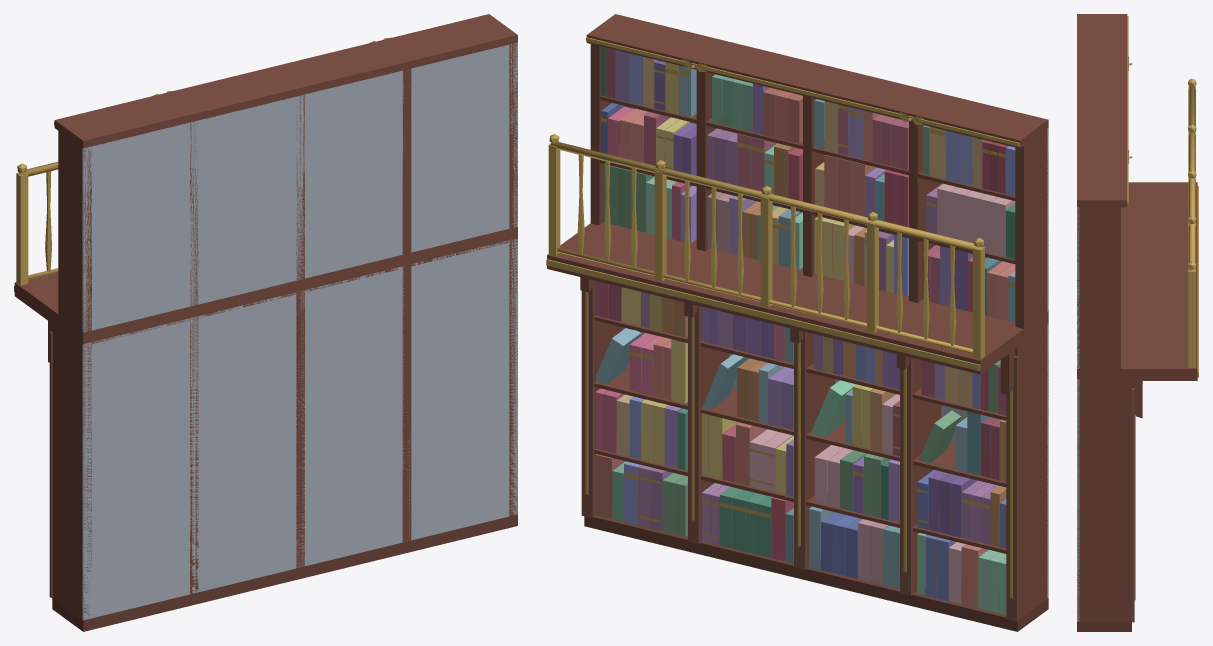
Rendered from library_mezzanine.glb.
The picture shows the model from 3 angles, left to right: view 1: azimuth 30°, elevation 25°; view 2: azimuth 150°, elevation 25°; view 3: azimuth 270°, elevation 25°; orthographic projection. The views are drawn at different scales.
Parts seen in each view (by area): view 1: library_mezzanine; view 2: library_mezzanine; view 3: library_mezzanine.
Part boxes in pixels (x1=…): library_mezzanine: x1=14, y1=14, x2=517, y2=631; library_mezzanine: x1=546, y1=14, x2=1048, y2=631; library_mezzanine: x1=1077, y1=14, x2=1198, y2=631.
Size of what is drawn, in the model's own units: 4 by 4.3 by 1.1.
